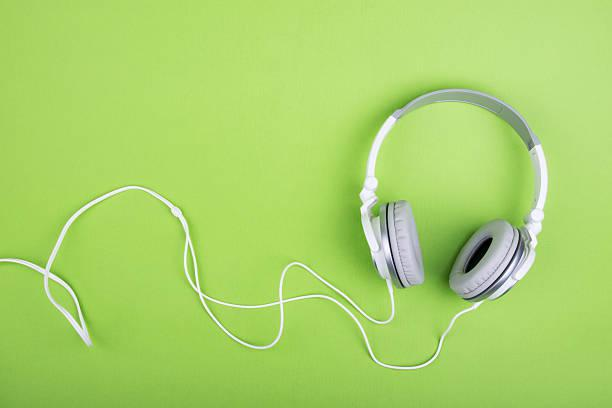headphone: (349, 83, 568, 301)
